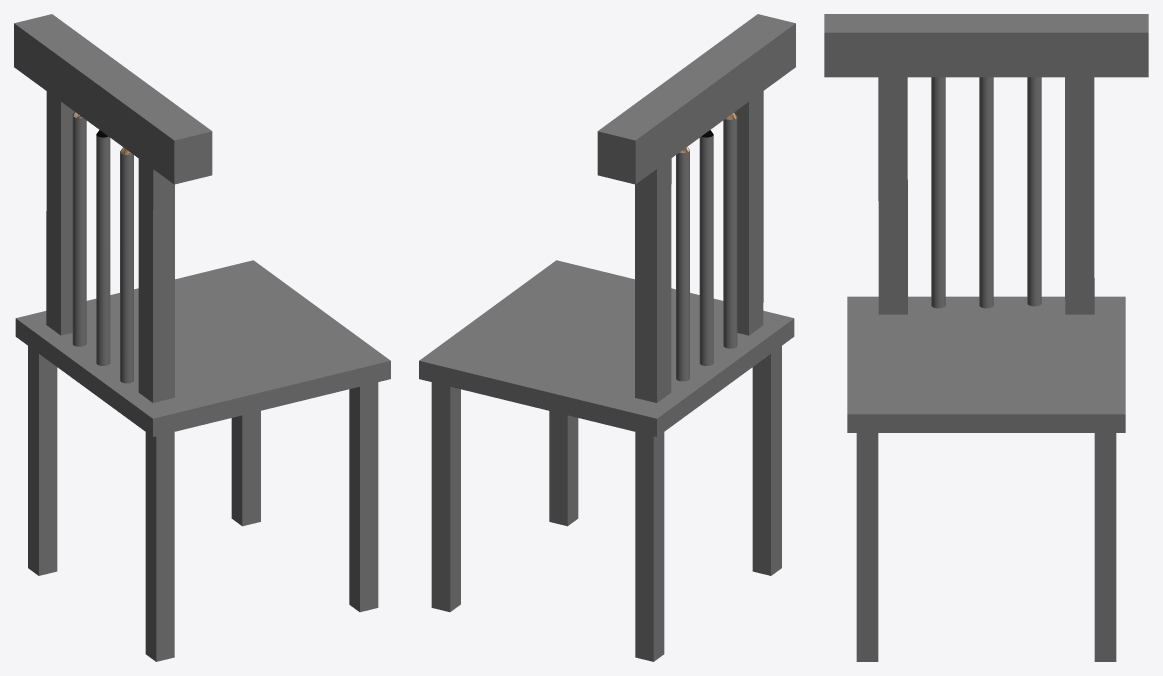
The model's file is 1200-ChairZH.obj.
3 views of the same model, side by side, from view 1: azimuth 30°, elevation 25°; view 2: azimuth 150°, elevation 25°; view 3: azimuth 270°, elevation 25° (orthographic).
Parts seen in each view (by area): view 1: pCube11, pCube1, pCube6, pCube10, pCube7, pCube9, pCube2, pCylinder1, pCylinder3, pCube8, pCylinder2; view 2: pCube11, pCube1, pCube2, pCube9, pCube8, pCube10, pCube6, pCylinder2, pCylinder1, pCube7, pCylinder3; view 3: pCube11, pCube1, pCube2, pCube6, pCube7, pCube8, pCylinder1, pCylinder2, pCylinder3.
Part boxes in pixels (x1,y1,x2,y2): pCube11: (15, 260, 390, 436); pCube1: (14, 14, 212, 184); pCube6: (138, 159, 174, 402); pCube10: (145, 432, 174, 661); pCube7: (349, 382, 378, 612); pCube9: (28, 346, 57, 575); pCube2: (46, 91, 74, 335); pCylinder1: (96, 130, 110, 365); pCylinder3: (72, 112, 86, 346); pCube8: (231, 411, 260, 526); pCylinder2: (120, 147, 133, 383); pCube11: (419, 260, 794, 436); pCube1: (597, 14, 795, 184); pCube2: (635, 158, 671, 402); pCube9: (635, 432, 664, 661); pCube8: (431, 382, 460, 612); pCube10: (752, 346, 781, 575); pCube6: (734, 91, 763, 335); pCylinder2: (723, 112, 737, 348); pCylinder1: (699, 130, 713, 365); pCube7: (549, 411, 578, 526); pCylinder3: (676, 146, 689, 381); pCube11: (847, 296, 1125, 432); pCube1: (824, 14, 1148, 77); pCube2: (1065, 77, 1094, 314); pCube6: (878, 77, 907, 314); pCube7: (856, 433, 878, 661); pCube8: (1094, 433, 1116, 661); pCylinder1: (979, 77, 993, 308); pCylinder2: (931, 77, 945, 308); pCylinder3: (1027, 77, 1041, 306).
Bounding box in the file's own units: 1.29 × 2.75 × 1.5.
